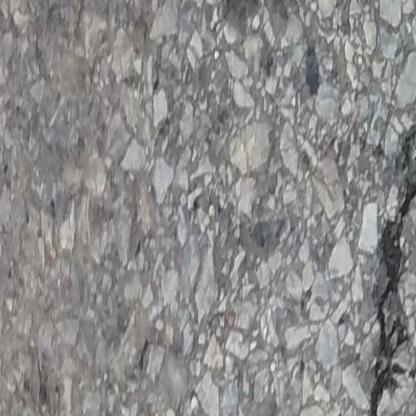Cracks: (365, 151, 416, 416)
